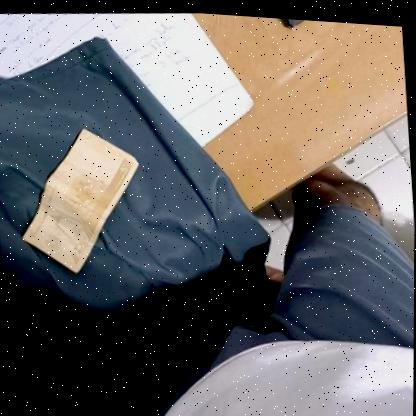five-back-vef: (13, 120, 148, 279)
